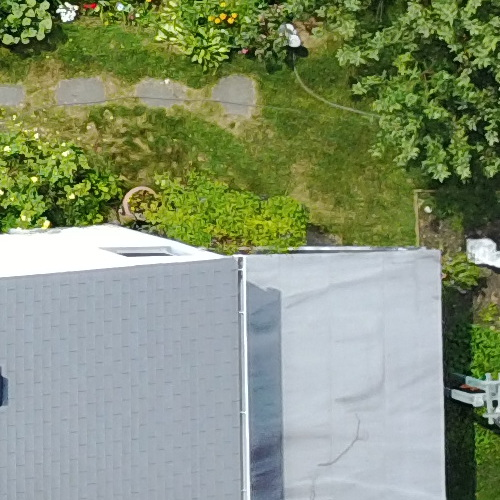flower pot: (115, 180, 172, 229)
